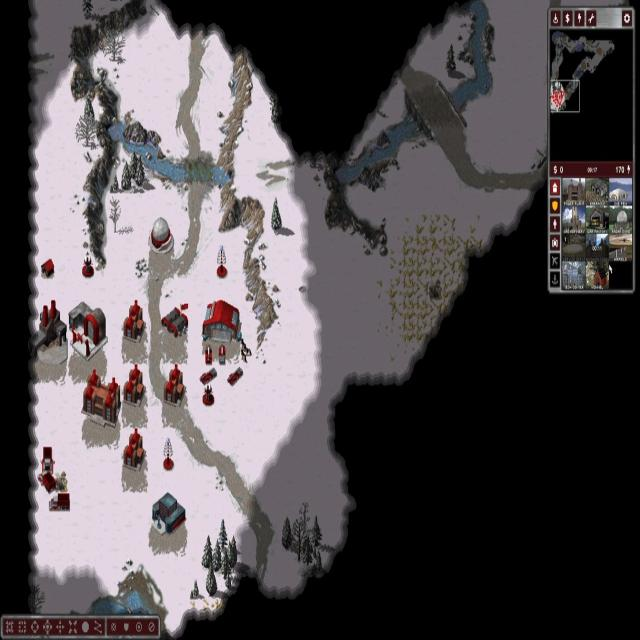bingying: (162, 307, 188, 337)
dianchang: (163, 362, 186, 407), (123, 299, 145, 342), (124, 363, 145, 408), (123, 427, 145, 469)
jidi: (68, 301, 108, 361)
jungongchang: (202, 300, 242, 340)
kuangchang: (30, 300, 68, 364)
leida: (149, 217, 174, 254)
